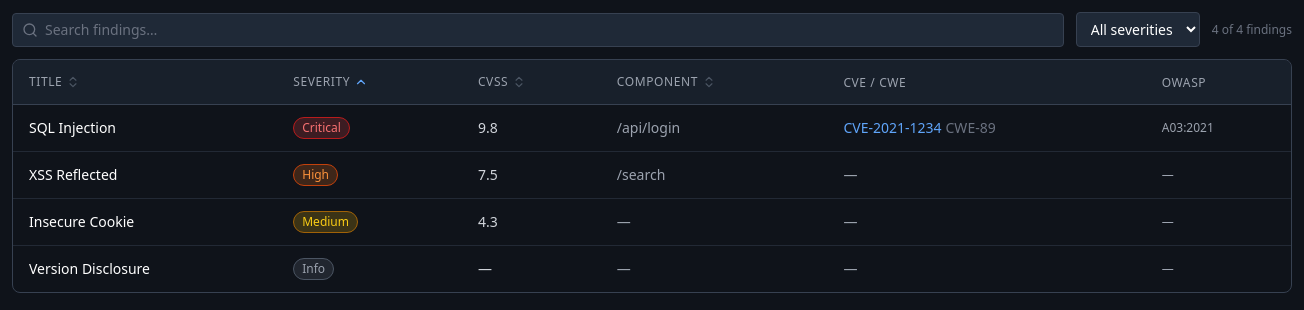
Scenario: FindingsTable › filters findings by search query
Type "sql" into the search field labelled "Search findings". click: (538, 30)
box: [12,12,1064,46]
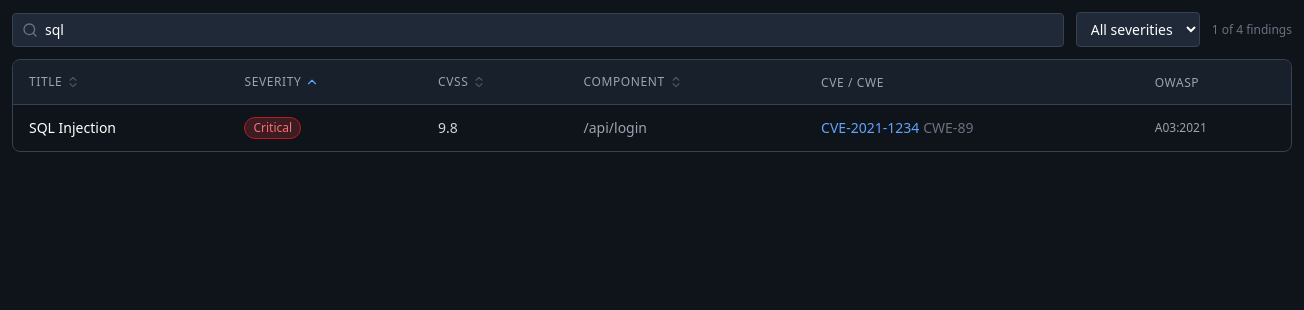
Expected: the text "SQL Injection" is shown, [13,104,228,151]
Result: the text "XSS Reflected" is gone
